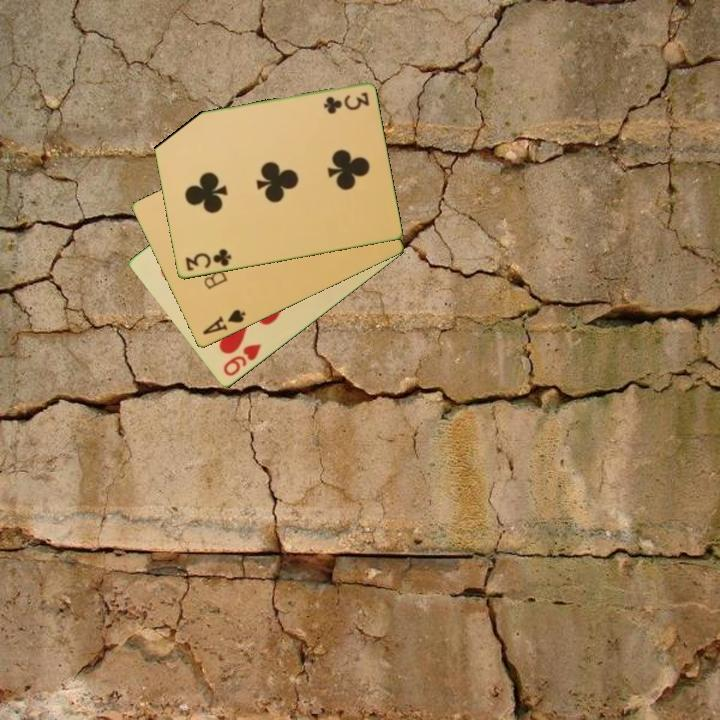3c: (182, 245, 234, 274), (320, 89, 372, 115)
9h: (219, 340, 264, 380)
As: (199, 306, 249, 338)
